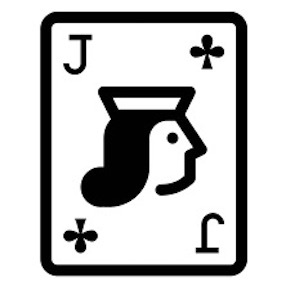JackOfClubs: (35, 8, 250, 276)
